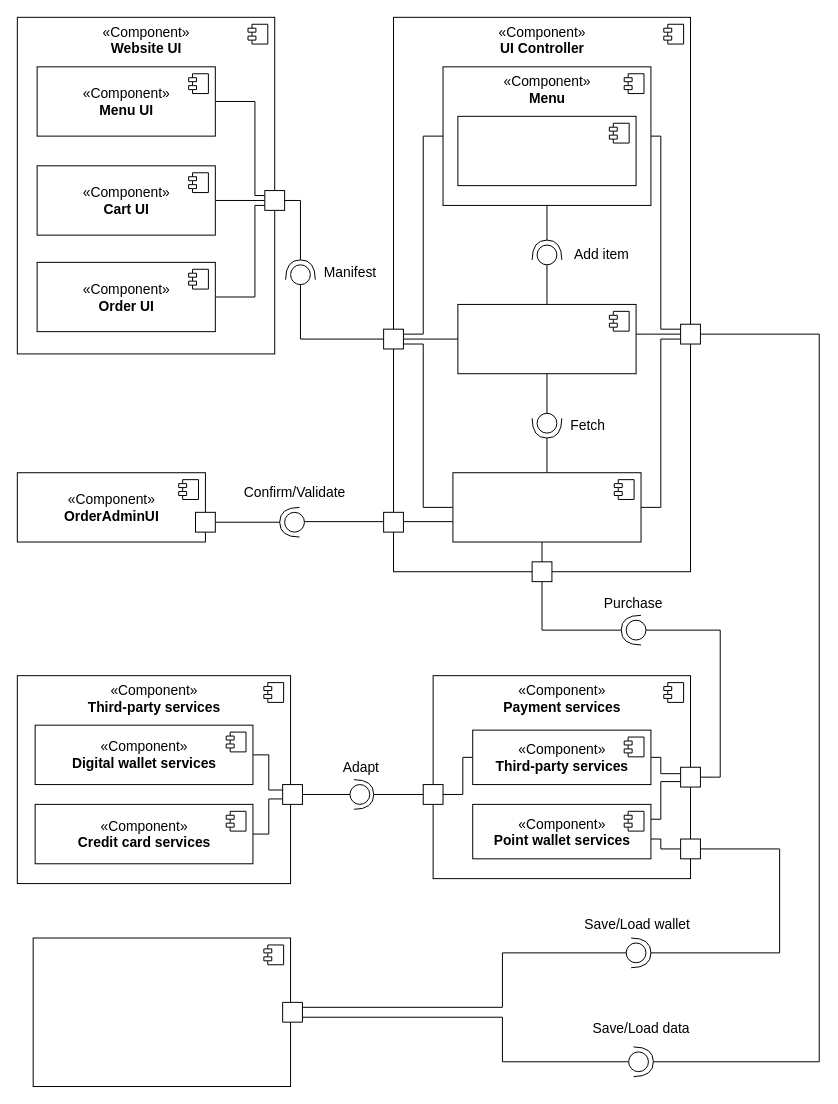
The diagram is 838 pixels wide and 1104 high, and some of its shapes have lost their labels. The centre of each missing label's shape, as x and y in pixels:
"«Component» Cart" belongs at point 546,338.
"«Component» Data Base" belongs at point 161,1012.
"«Component» Order" belongs at point 546,507.
"«Component» Search Engine" belongs at point 546,150.
